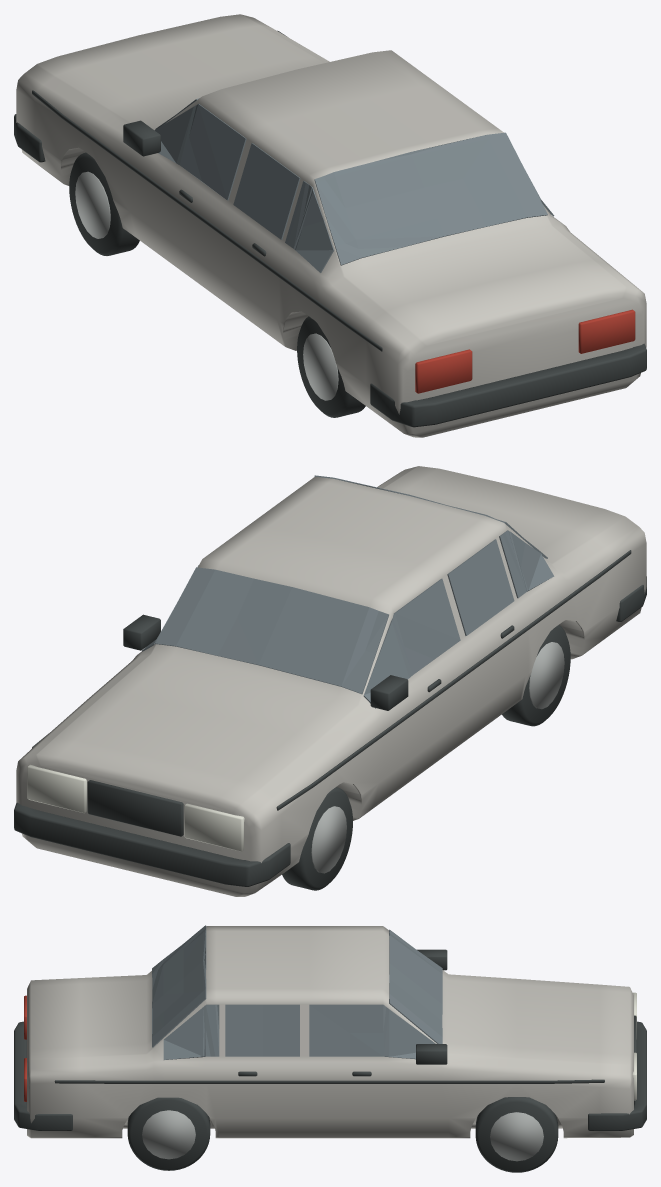
The model's file is review-only.glb.
3 views of the same model, one above another, from view 1: azimuth 30°, elevation 25°; view 2: azimuth 150°, elevation 25°; view 3: azimuth 270°, elevation 25° (orthographic). The views are drawn at different scales.
Visible parts, largest first — view 1: body, glass_envelope, bumper_rear, wheel_fl, trim_side_-1, lamp_rear_-1, lamp_rear_1, wheel_rl, trim_rim_wheel_fl, trim_rim_wheel_rl, mirror_housing, bumper_front; view 2: body, glass_envelope, bumper_front, grille_front, wheel_fl, lamp_front_-1, lamp_front_1, trim_side_-1, wheel_rl, trim_rim_wheel_fl, trim_rim_wheel_rl, mirror_housing (+2 smaller); view 3: body, glass_envelope, wheel_fr, wheel_rr, trim_side_1, trim_rim_wheel_rr, trim_rim_wheel_fr, bumper_front, bumper_rear, mirror_housing.001, mirror_housing.
Boxes of the visible parts, x1,y1,x2,y2 form: body: (16,14,646,437); glass_envelope: (154,98,554,272); bumper_rear: (370,343,646,427); wheel_fl: (69,152,139,255); trim_side_-1: (32,90,382,351); lamp_rear_-1: (415,349,472,393); lamp_rear_1: (578,309,635,353); wheel_rl: (297,316,365,417); trim_rim_wheel_fl: (75,171,110,238); trim_rim_wheel_rl: (303,333,338,400); mirror_housing: (123,120,160,156); bumper_front: (14,114,45,162); body: (16,466,646,896); glass_envelope: (142,475,554,708); bumper_front: (14,802,290,886); grille_front: (87,780,183,836); wheel_fl: (282,787,352,890); lamp_front_-1: (184,803,244,851); lamp_front_1: (27,764,86,813); trim_side_-1: (276,550,631,810); wheel_rl: (502,625,570,726); trim_rim_wheel_fl: (311,806,346,873); trim_rim_wheel_rl: (529,642,564,709); mirror_housing: (370,675,408,710); body: (27,926,633,1138); glass_envelope: (152,925,442,1059); wheel_fr: (475,1097,558,1172); wheel_rr: (127,1097,210,1170); trim_side_1: (54,1079,604,1083); trim_rim_wheel_rr: (142,1110,195,1159); trim_rim_wheel_fr: (490,1112,543,1161); bumper_front: (588,1021,646,1130); bumper_rear: (14,1021,72,1130); mirror_housing.001: (416,1044,447,1064); mirror_housing: (417,949,447,970).
Bounding box in the file's own units: 1.83 × 1.43 × 4.82.
